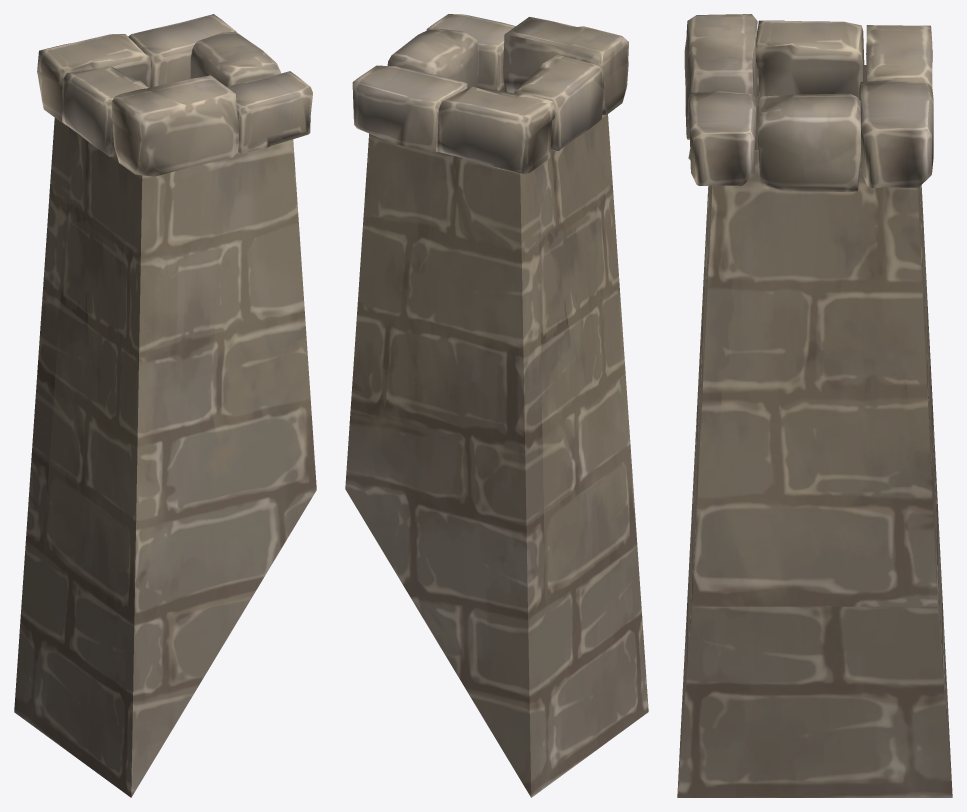
File: Prop_Chimney.glb
The picture shows the model from 3 angles, left to right: view 1: azimuth 30°, elevation 25°; view 2: azimuth 150°, elevation 25°; view 3: azimuth 270°, elevation 25°; orthographic projection. The views are drawn at different scales.
Visible parts, largest first — view 1: Prop_Chimney; view 2: Prop_Chimney; view 3: Prop_Chimney.
Part boxes in pixels (x1=…): Prop_Chimney: x1=14, y1=14, x2=316, y2=797; Prop_Chimney: x1=345, y1=14, x2=648, y2=797; Prop_Chimney: x1=677, y1=14, x2=952, y2=797.
Size of the model in its own units: 0.9458 by 3.18 by 1.
Materials: 2 (2 with a texture image).
